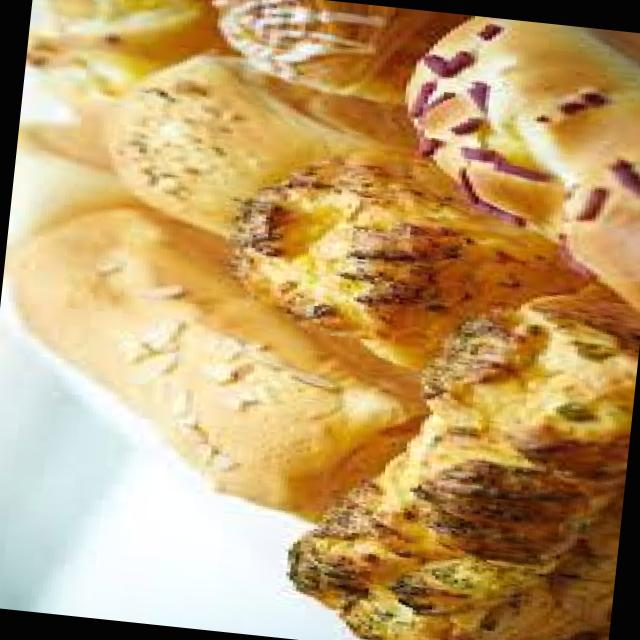organic: (293, 2, 640, 640), (210, 0, 368, 501), (0, 0, 200, 362), (168, 0, 243, 454)
